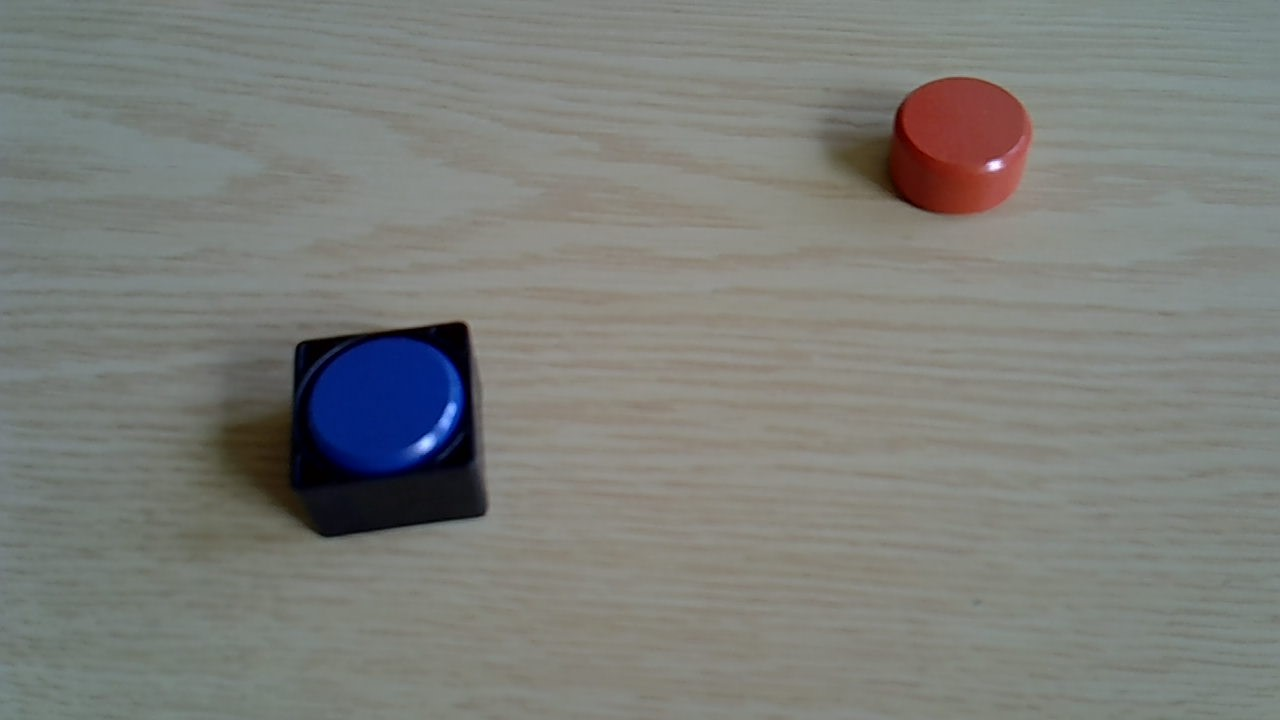Behaelter: (287, 317, 490, 544)
WerkStueck: (306, 338, 466, 476), (888, 76, 1034, 214)
